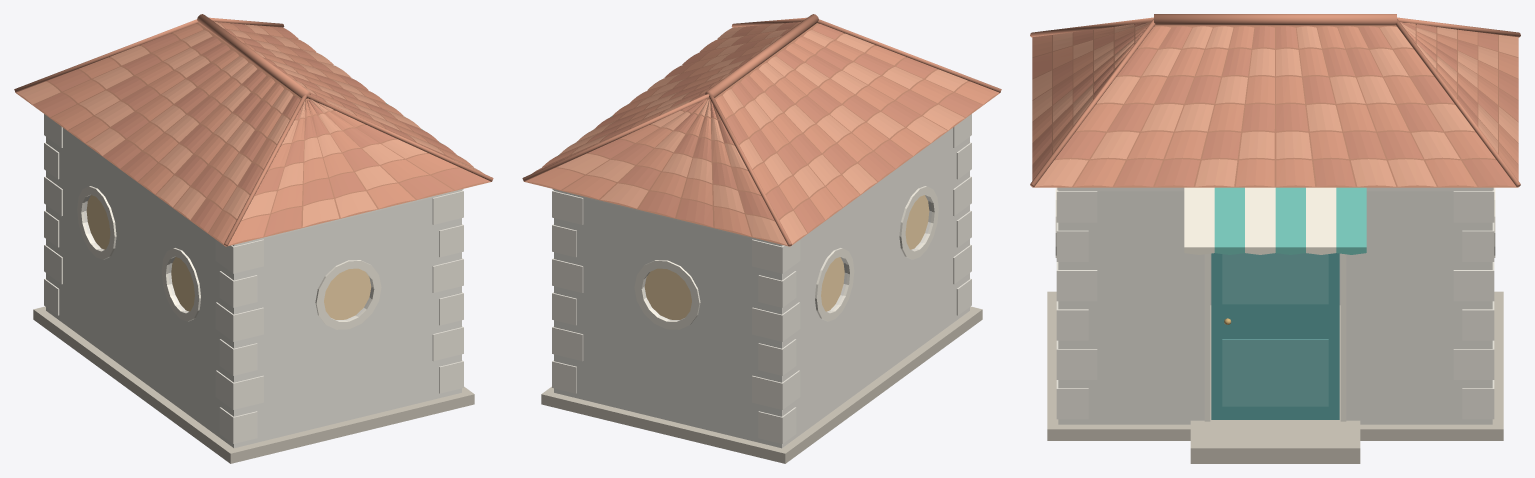
File: poolhouse.glb
3 views of the same model, side by side, from view 1: azimuth 30°, elevation 25°; view 2: azimuth 150°, elevation 25°; view 3: azimuth 270°, elevation 25° (orthographic). The views are drawn at different scales.
Visible parts, largest first — view 1: House | side wall, Roof | tile courses back, House | back wall, Roof | tile courses left, Roof | dark terracotta underlay, House | low plinth, Roof | tile courses front, Window | inset glowing pane, Window | painted round frame, Roof | rounded ridge cap, House | corner quoin.001, House | corner quoin.003 (+22 smaller); view 2: House | side wall.002, Roof | tile courses back, House | back wall, Roof | tile courses right, Roof | dark terracotta underlay, House | low plinth, Roof | tile courses front, Window | inset glowing pane.001, Window | painted round frame.001, Roof | rounded ridge cap, House | corner quoin.007, House | corner quoin.009 (+22 smaller); view 3: Roof | tile courses front, House | front wall, Roof | dark terracotta underlay, Door | inset panel, Roof | tile courses left, Roof | tile courses right, House | low plinth, House | front step, Door | raised panel, Door | raised panel.001, Roof | rounded ridge cap, Awning | striped canopy.001 (+24 smaller).
Part boxes in pixels (x1=…): House | side wall: x1=234, y1=190, x2=461, y2=448; Roof | tile courses back: x1=17, y1=24, x2=300, y2=243; House | back wall: x1=46, y1=128, x2=233, y2=447; Roof | tile courses left: x1=228, y1=99, x2=489, y2=245; Roof | dark terracotta underlay: x1=16, y1=23, x2=491, y2=246; House | low plinth: x1=33, y1=306, x2=474, y2=463; Roof | tile courses front: x1=214, y1=21, x2=483, y2=173; Window | inset glowing pane: x1=324, y1=268, x2=371, y2=319; Window | painted round frame: x1=315, y1=260, x2=381, y2=329; Roof | rounded ridge cap: x1=197, y1=14, x2=310, y2=98; House | corner quoin.001: x1=215, y1=370, x2=263, y2=409; House | corner quoin.003: x1=215, y1=302, x2=263, y2=341; House | side wall.002: x1=554, y1=190, x2=781, y2=448; Roof | tile courses back: x1=715, y1=24, x2=998, y2=243; House | back wall: x1=782, y1=128, x2=969, y2=447; Roof | tile courses right: x1=526, y1=99, x2=787, y2=245; Roof | dark terracotta underlay: x1=524, y1=23, x2=999, y2=246; House | low plinth: x1=541, y1=306, x2=982, y2=463; Roof | tile courses front: x1=532, y1=21, x2=801, y2=173; Window | inset glowing pane.001: x1=644, y1=268, x2=691, y2=319; Window | painted round frame.001: x1=634, y1=260, x2=700, y2=329; Roof | rounded ridge cap: x1=705, y1=14, x2=818, y2=98; House | corner quoin.007: x1=752, y1=370, x2=800, y2=409; House | corner quoin.009: x1=752, y1=302, x2=800, y2=341; Roof | tile courses front: x1=1035, y1=26, x2=1515, y2=186; House | front wall: x1=1058, y1=191, x2=1492, y2=424; Roof | dark terracotta underlay: x1=1032, y1=25, x2=1518, y2=187; Door | inset panel: x1=1211, y1=253, x2=1339, y2=419; Roof | tile courses left: x1=1032, y1=22, x2=1150, y2=180; Roof | tile courses right: x1=1400, y1=22, x2=1518, y2=180; House | low plinth: x1=1047, y1=291, x2=1503, y2=440; House | front step: x1=1190, y1=420, x2=1360, y2=463; Door | raised panel: x1=1222, y1=339, x2=1328, y2=406; Door | raised panel.001: x1=1222, y1=253, x2=1328, y2=304; Roof | rounded ridge cap: x1=1154, y1=14, x2=1396, y2=25; Awning | striped canopy.001: x1=1214, y1=187, x2=1244, y2=248.
Bounding box in the file's own units: 1.87 × 1.82 × 2.26.
